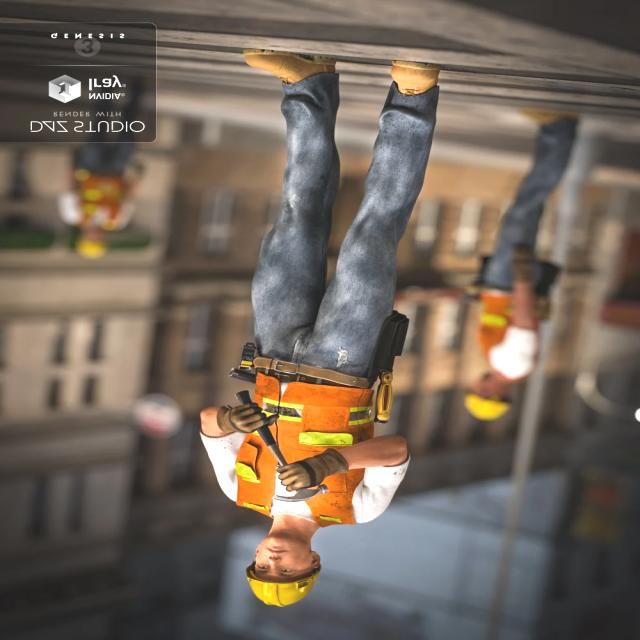Boots: (233, 44, 467, 102), (514, 103, 574, 133)
Hard Hat: (242, 550, 326, 611), (457, 393, 509, 427), (68, 244, 114, 266), (126, 116, 146, 133)
Reflective Vest: (227, 380, 389, 524), (457, 286, 558, 378), (67, 172, 137, 234)
